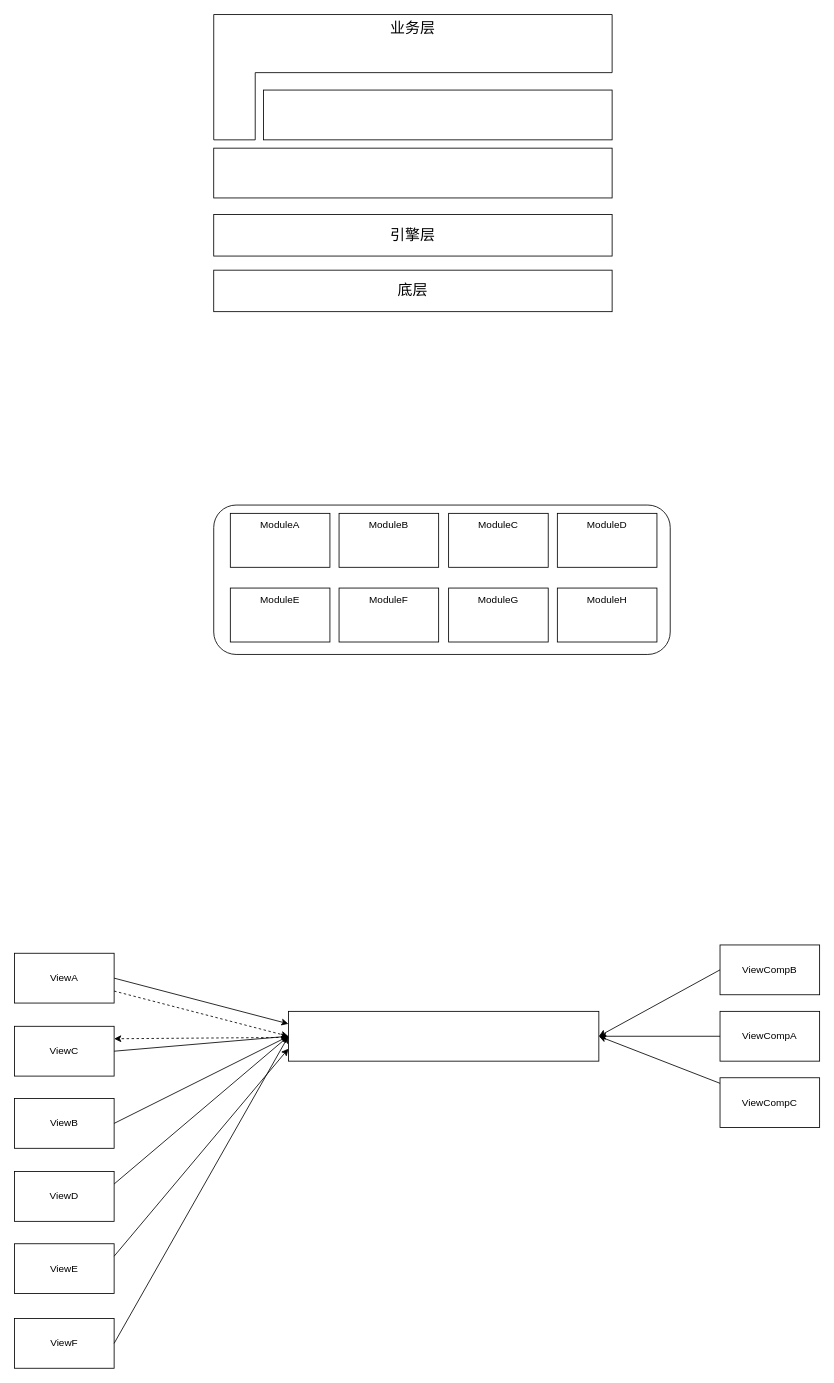
Image size: 834x1383. Some labels were removed from this diagram. The shapes that lost their labels are listed below. From the top down, each one's centre as x and y in pixels, then its label:
At point 437,114: "框架层".
At point 412,172: "适配层".
At point 443,1036: "ViewMgr".
